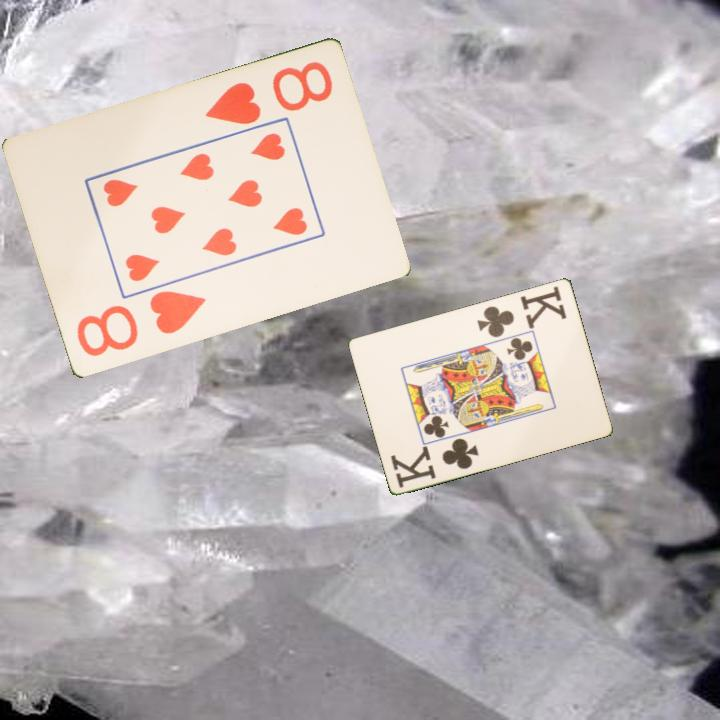8h: (73, 287, 209, 361), (201, 58, 335, 129)
Kc: (474, 282, 570, 340), (387, 434, 482, 490)
